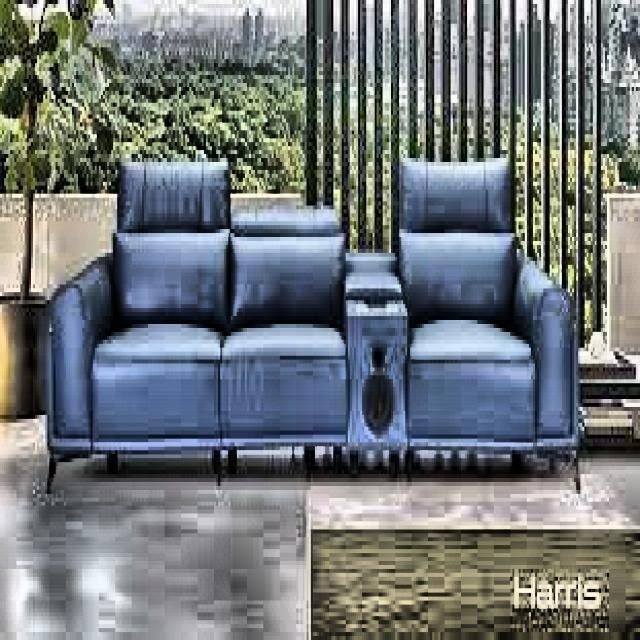sofa: (41, 146, 560, 490)
